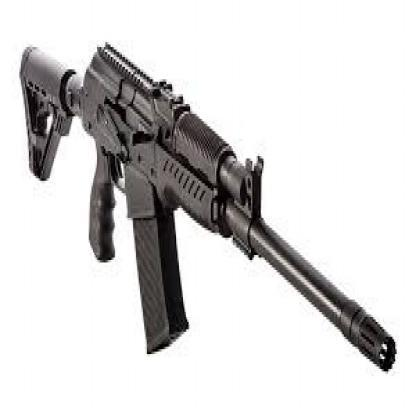Gun: (18, 37, 396, 372)
